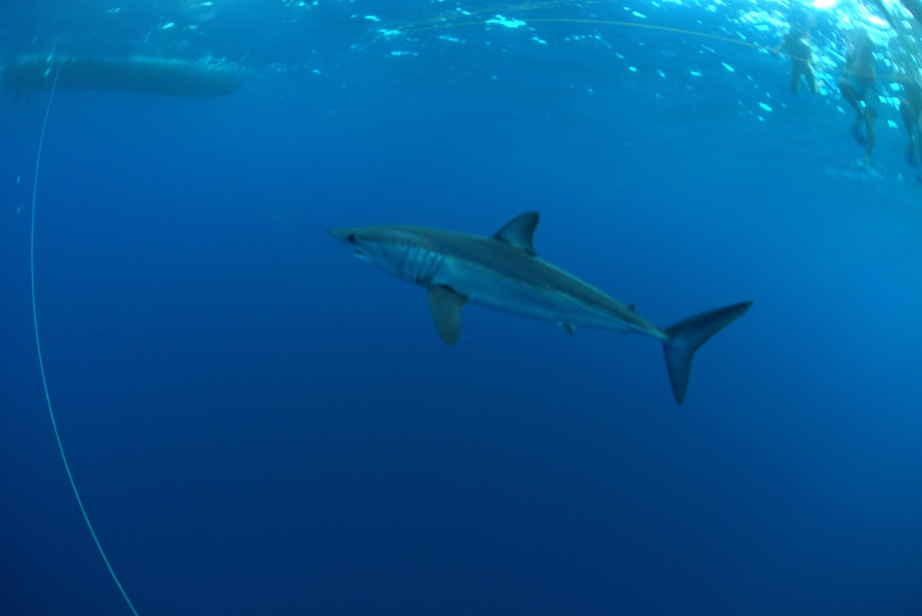Mako: (309, 209, 764, 425)
